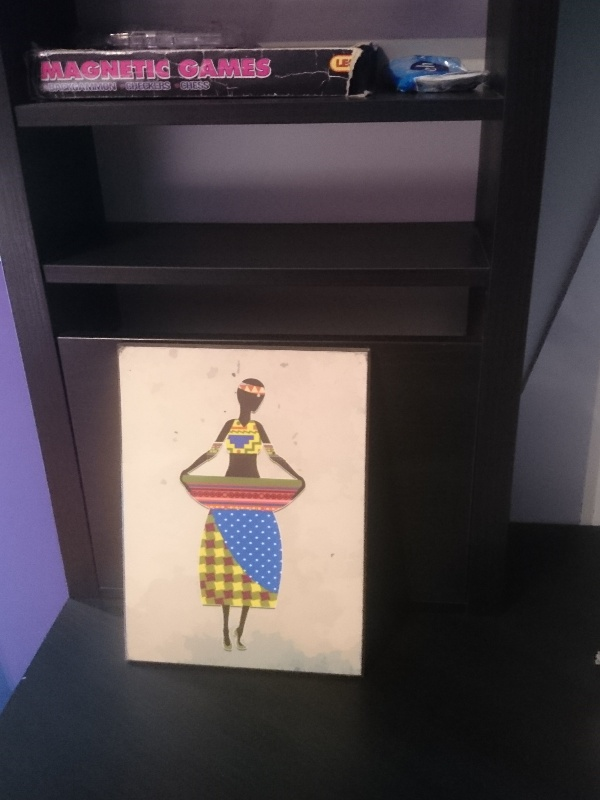my image: (124, 352, 367, 671)
